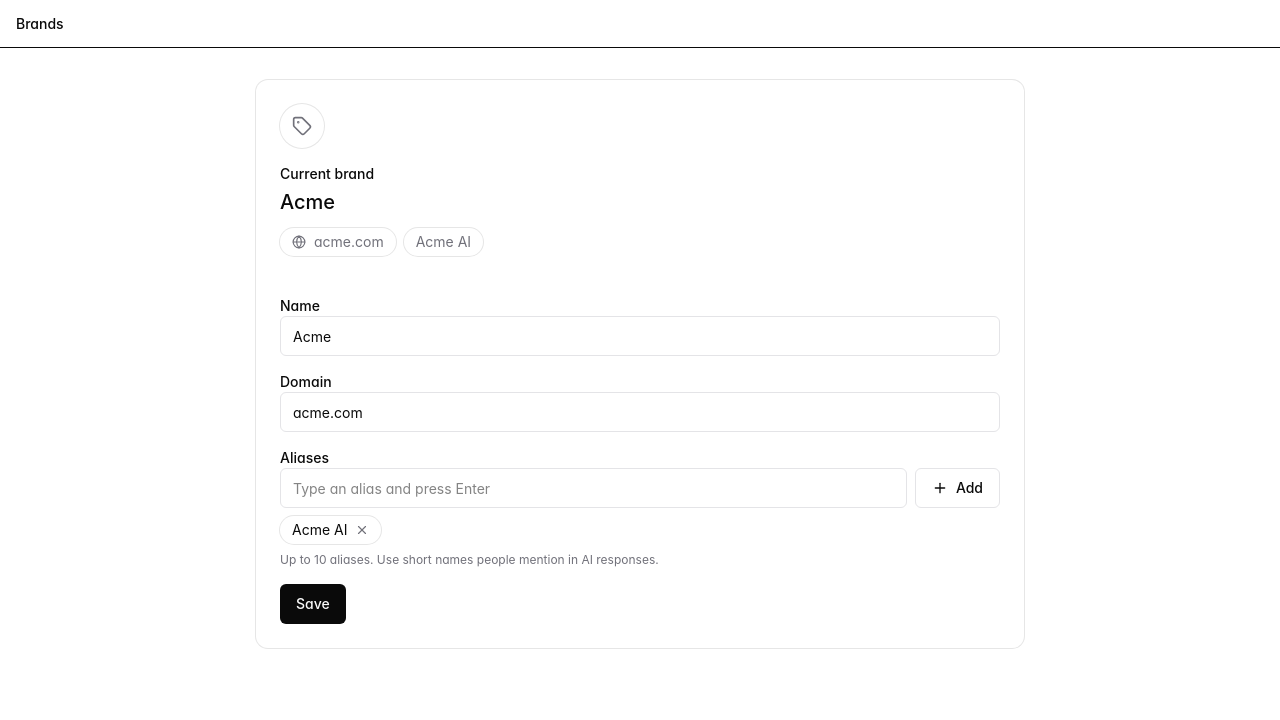
Test: BrandsPage › renders populated state and updates after save
The image size is (1280, 720).
Check: the text "Current brand" is shown, box [280, 165, 374, 182]
Check: the text "Acme" is shown, box [280, 190, 335, 214]
Replace the text in the field labelled "Name" with "Acme Labs": x=640, y=336 [280, 316, 1000, 356]
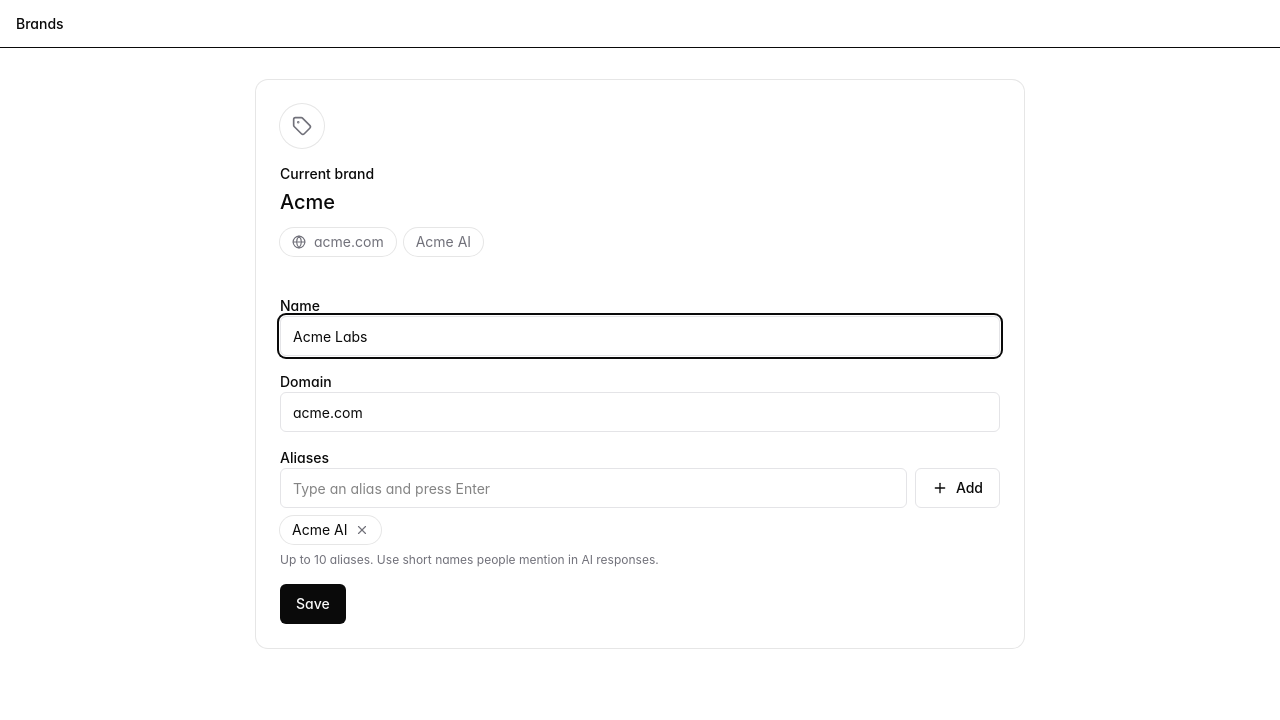
Replace the text in the field labelled "Domain" with "https://acmelabs.ai/path": x=640, y=412 [280, 392, 1000, 432]
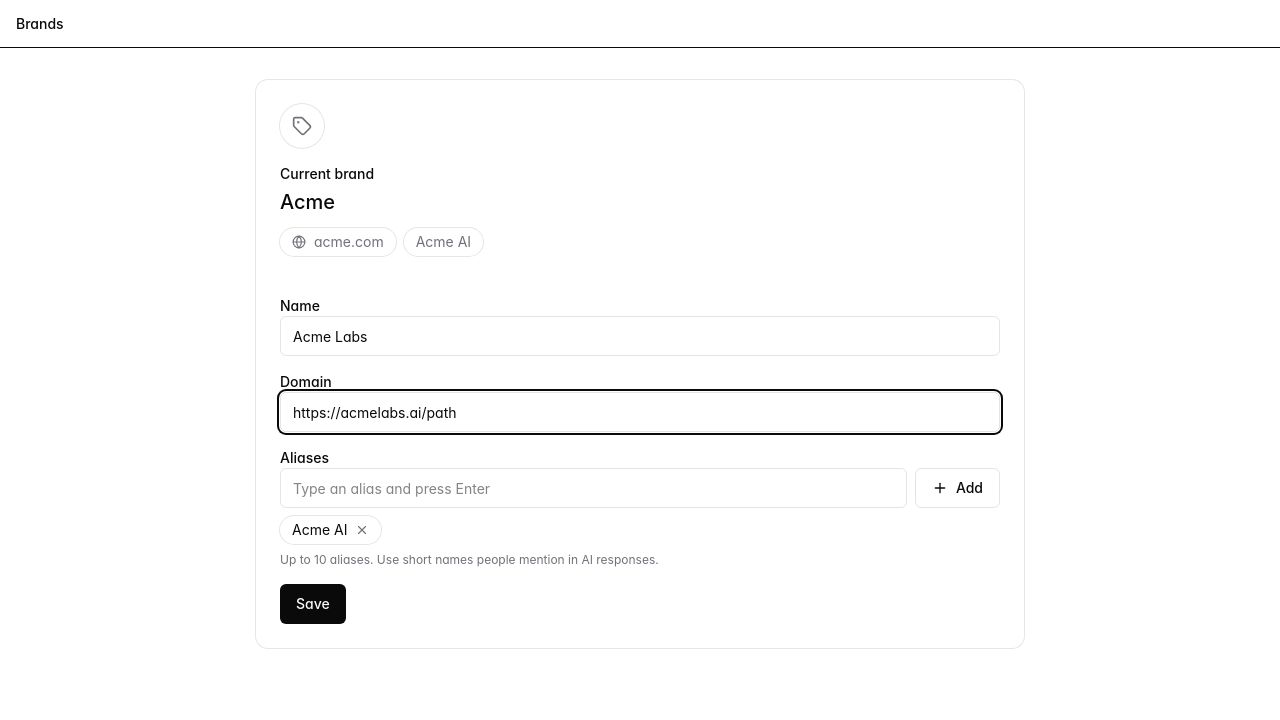
In the field labelled "Aliases": x=593, y=488 [280, 468, 907, 508], type "Citetrack"
Then press Enter
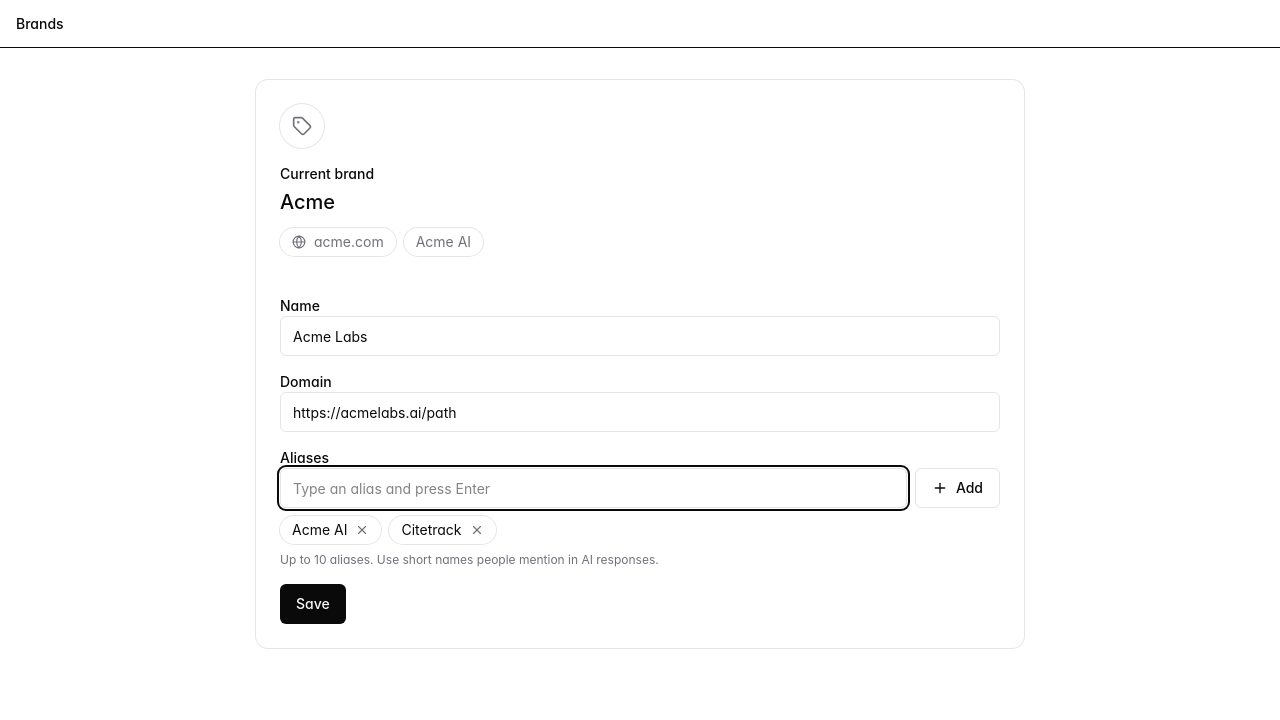
Click the button "Save": x=313, y=604 [280, 584, 346, 624]
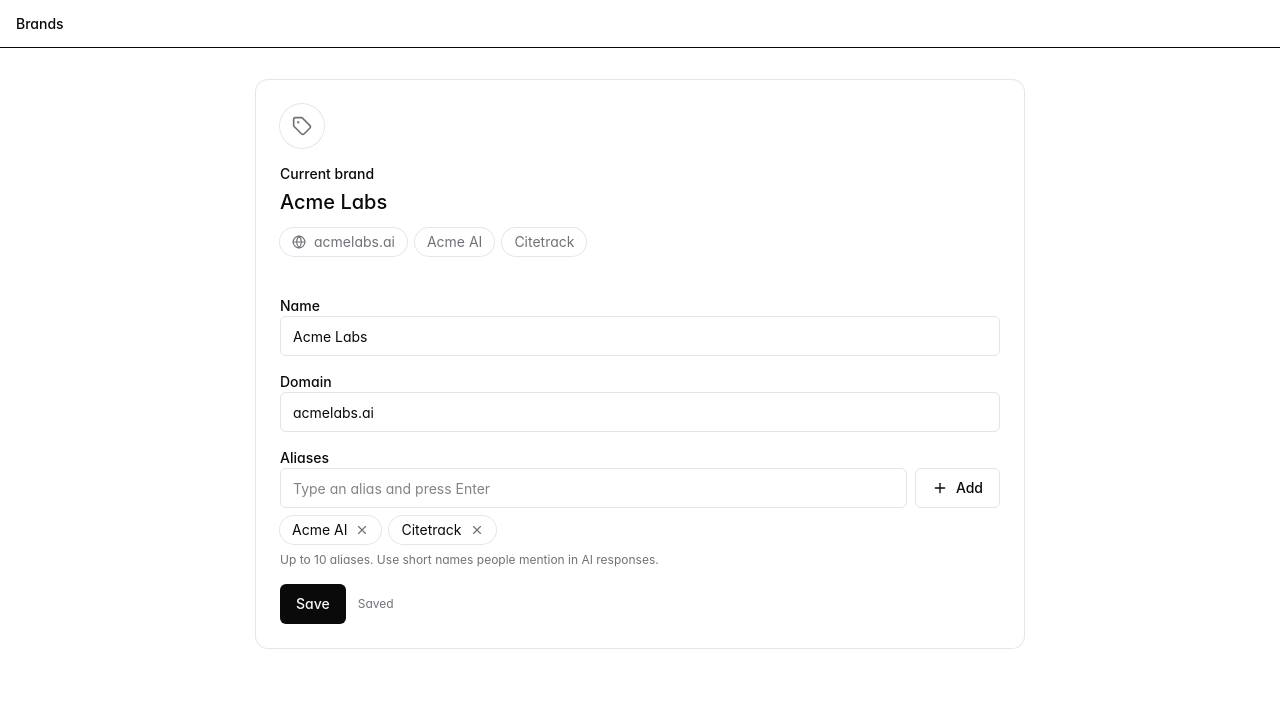
Check: the text "Acme Labs" is shown, box [280, 190, 387, 214]
Check: the text "acmelabs.ai" is shown, box [280, 228, 407, 256]
Check: the text "Citetrack" is shown, box [502, 228, 586, 256]
